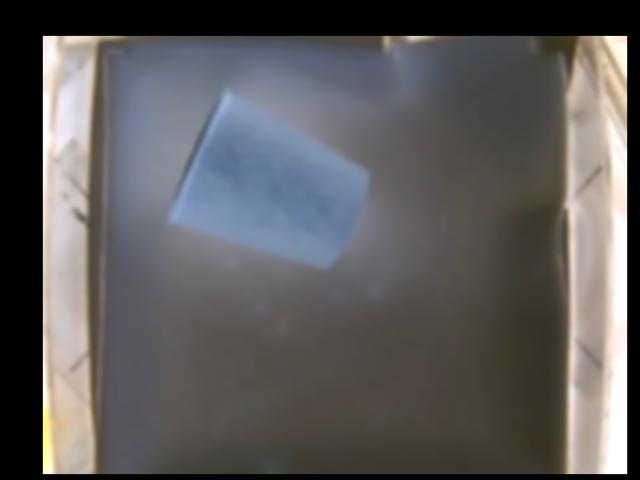Cup: (162, 87, 370, 266)
